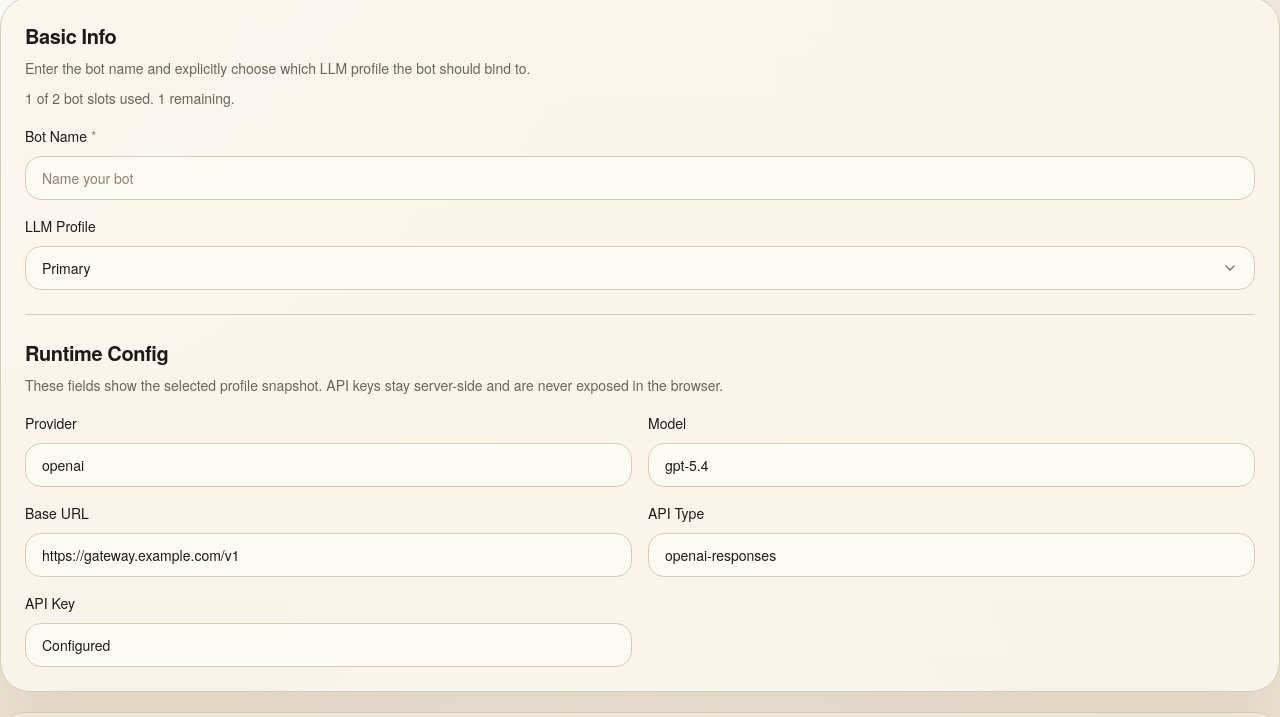
it: shows the API error message when creation fails
This screenshot has width=1280, height=717.
In the field labelled "Bot Name": (640, 178) [25, 156, 1255, 200], type "Alpha"
(page scrolled)
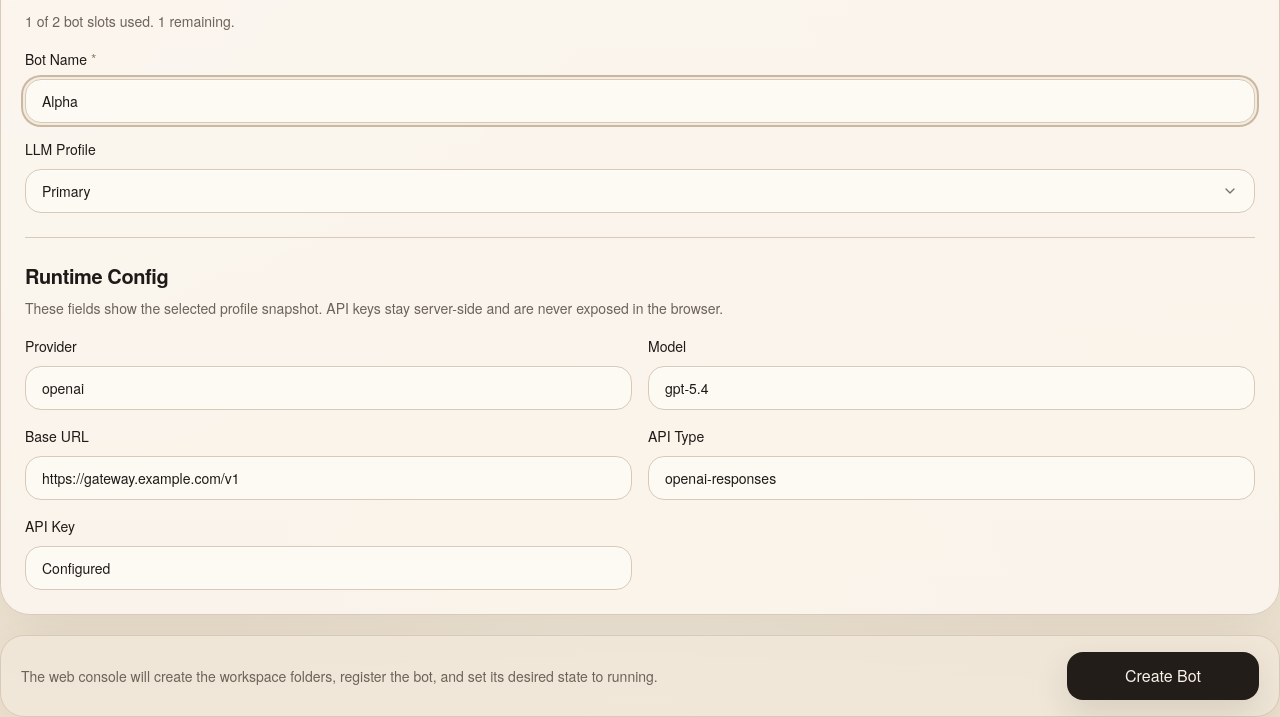
Click the button "Create Bot": (1163, 676) [1067, 652, 1259, 700]
(page scrolled)
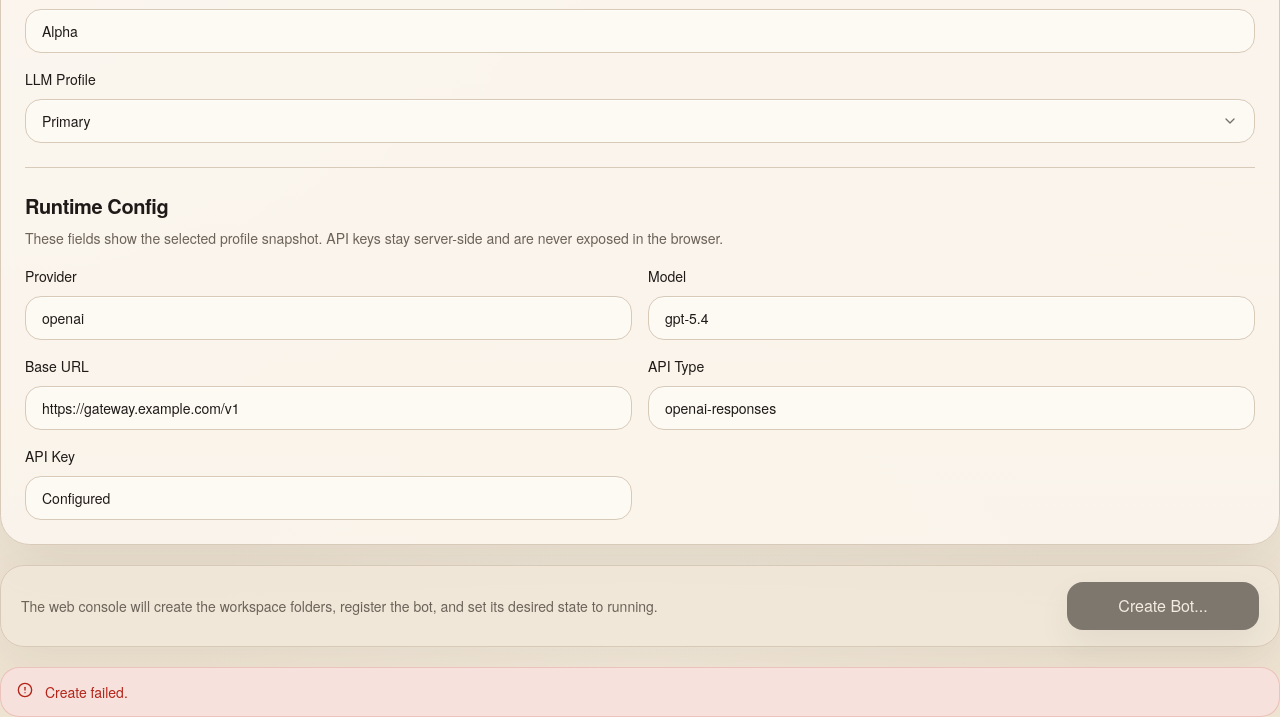
Now the message reads "Create failed.", box [45, 682, 128, 702]
